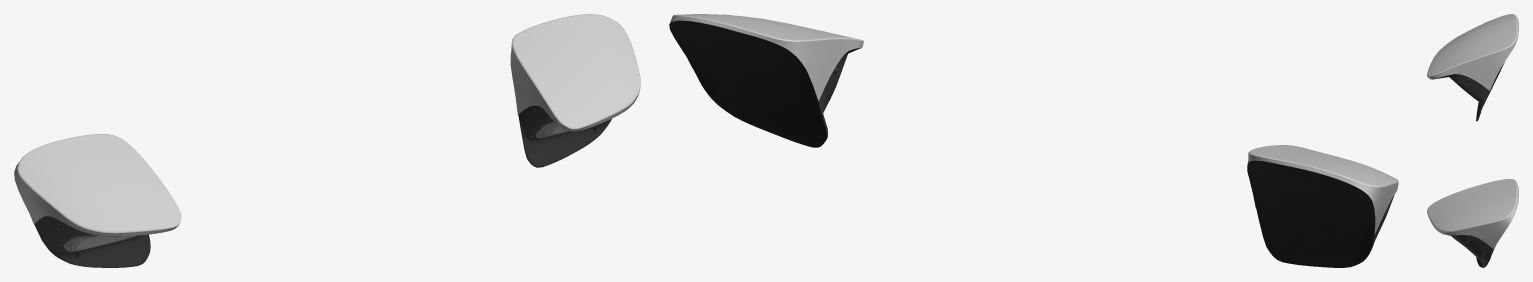
File: STANDARDHEADLIGHTS.fbx
3 renders of one model, left to right at view 1: azimuth 30°, elevation 25°; view 2: azimuth 150°, elevation 25°; view 3: azimuth 270°, elevation 25°, orthographic. The views are drawn at different scales.
Visible parts, largest first — view 1: GEO_EXT_BODY_POPUP, GEO_EXT_PLASTIC_POPUP, GEO_EXT_FRONTLIGHTS_GLASS; view 2: GEO_EXT_PLASTIC_POPUP, GEO_EXT_BODY_POPUP; view 3: GEO_EXT_BODY_POPUP, GEO_EXT_PLASTIC_POPUP.
Part boxes in pixels (bbox=[...]): GEO_EXT_BODY_POPUP: bbox=[14, 14, 640, 236]; GEO_EXT_PLASTIC_POPUP: bbox=[34, 105, 611, 267]; GEO_EXT_FRONTLIGHTS_GLASS: bbox=[63, 121, 569, 251]; GEO_EXT_PLASTIC_POPUP: bbox=[669, 20, 1394, 267]; GEO_EXT_BODY_POPUP: bbox=[669, 14, 1398, 234]; GEO_EXT_BODY_POPUP: bbox=[1427, 14, 1518, 249]; GEO_EXT_PLASTIC_POPUP: bbox=[1432, 62, 1504, 267].
Bounding box in the file's own units: 143 × 26.39 × 27.36.
